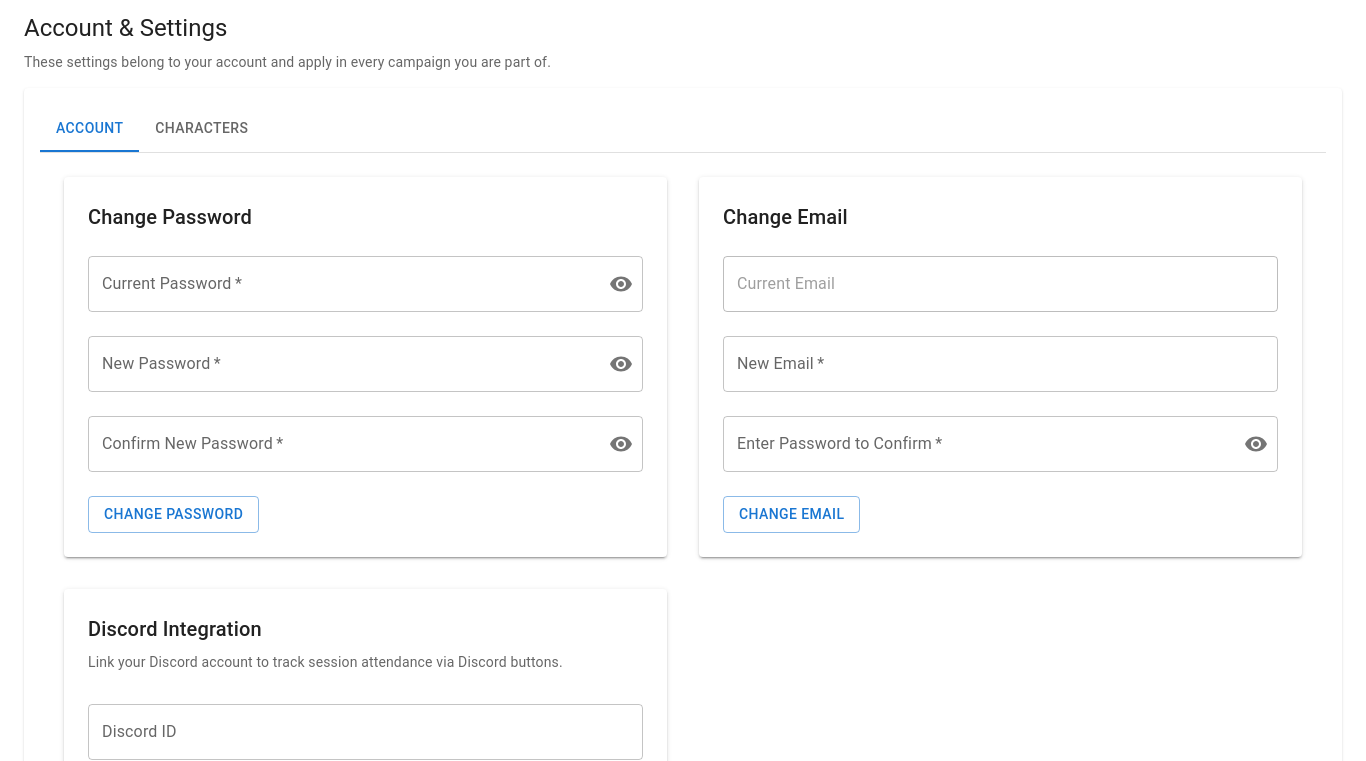
UserSettings › shows password mismatch error
The image size is (1366, 761).
expect the heading "Change Password" is shown: met, box [88,205,252,229]
Type "oldpass123" into the password field labelled "Current Password *". click: (340, 284)
box: [88,256,593,312]
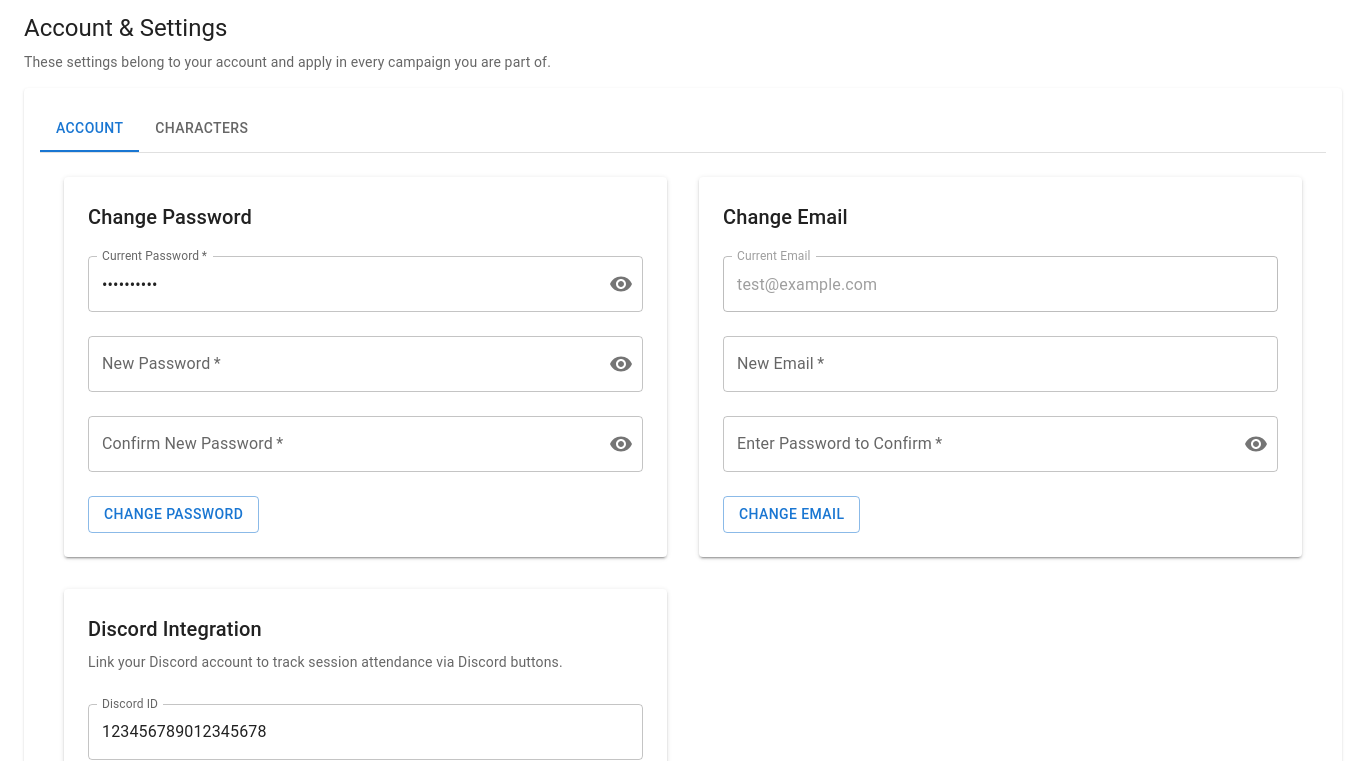
Type "newpassword123" into the password field labelled "New Password *". click: (340, 364)
box: [88,336,593,392]
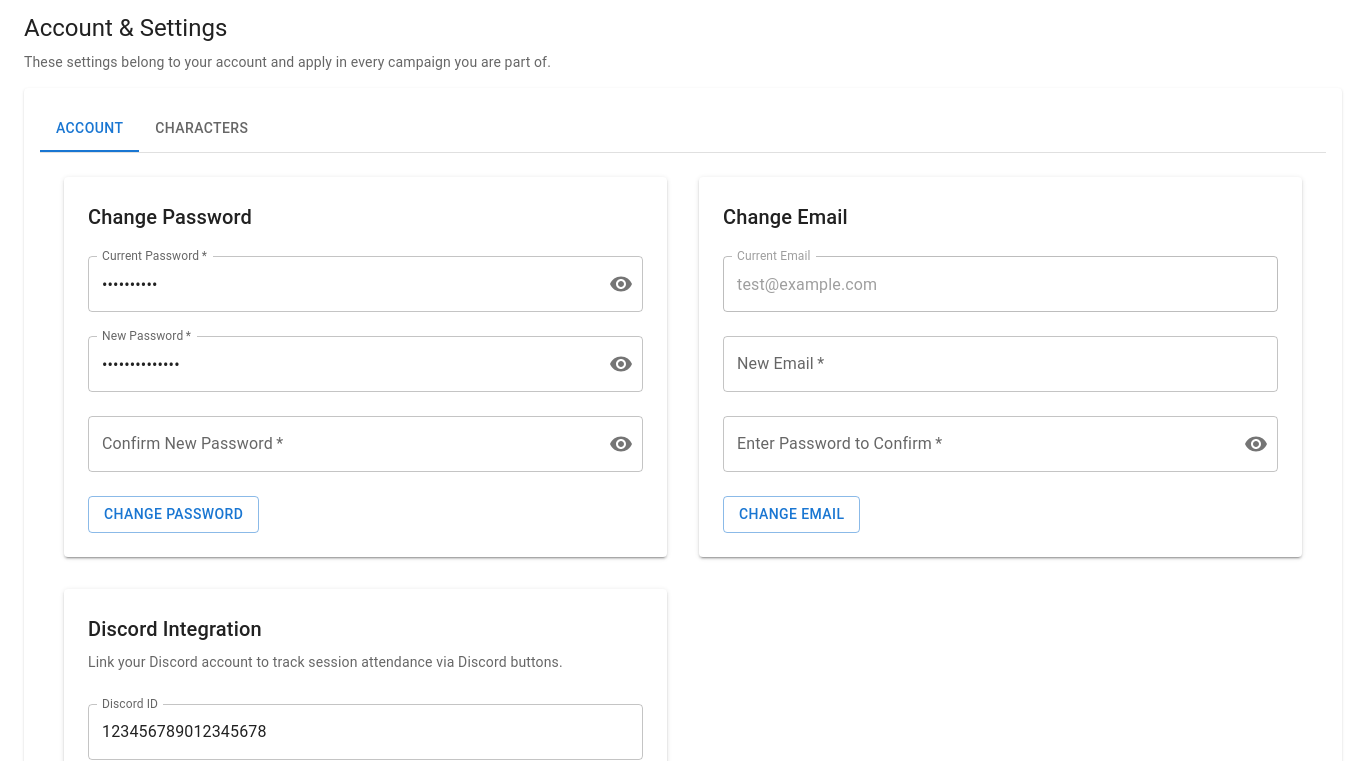
Type "differentpassword" into the password field labelled "Confirm New Password *". click: (340, 444)
box: [88,416,593,472]
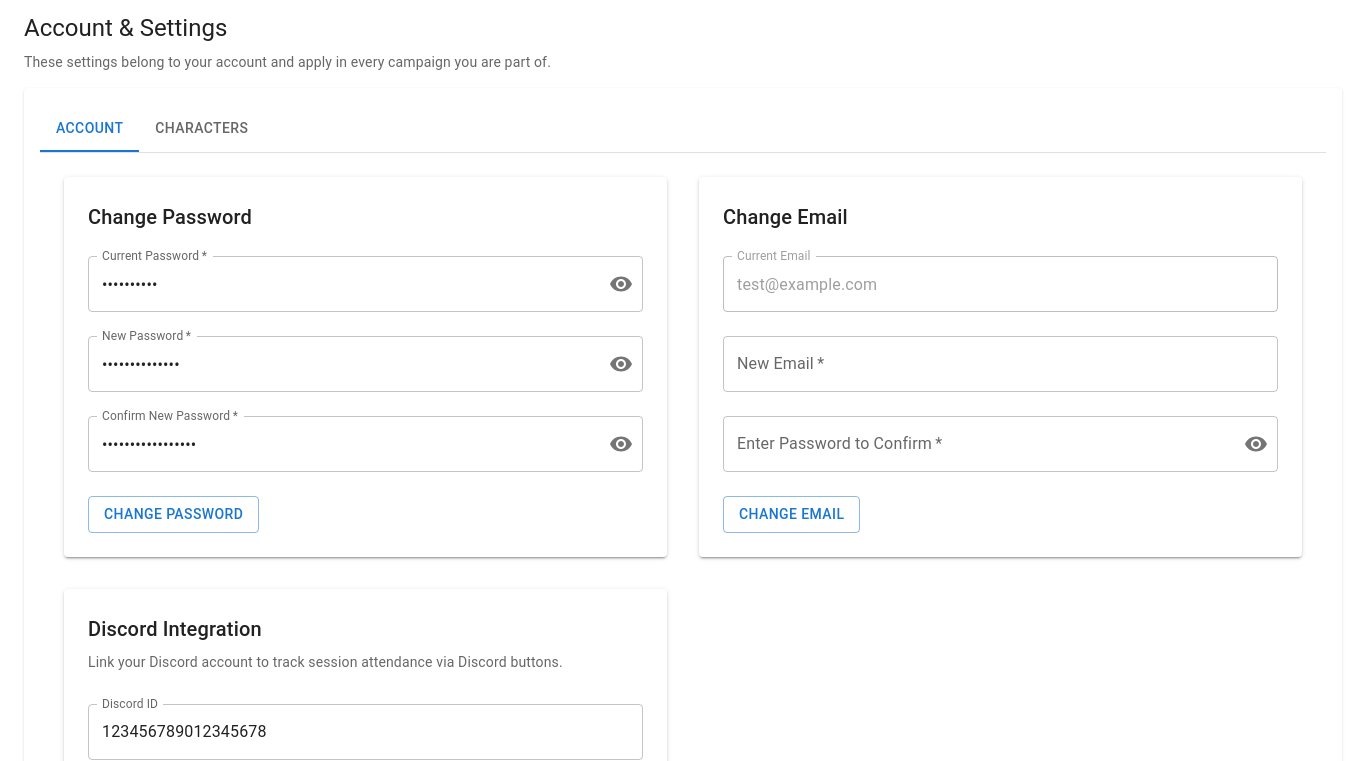
Click the button "Change Password". click: (174, 515)
box: [88,496,259,533]
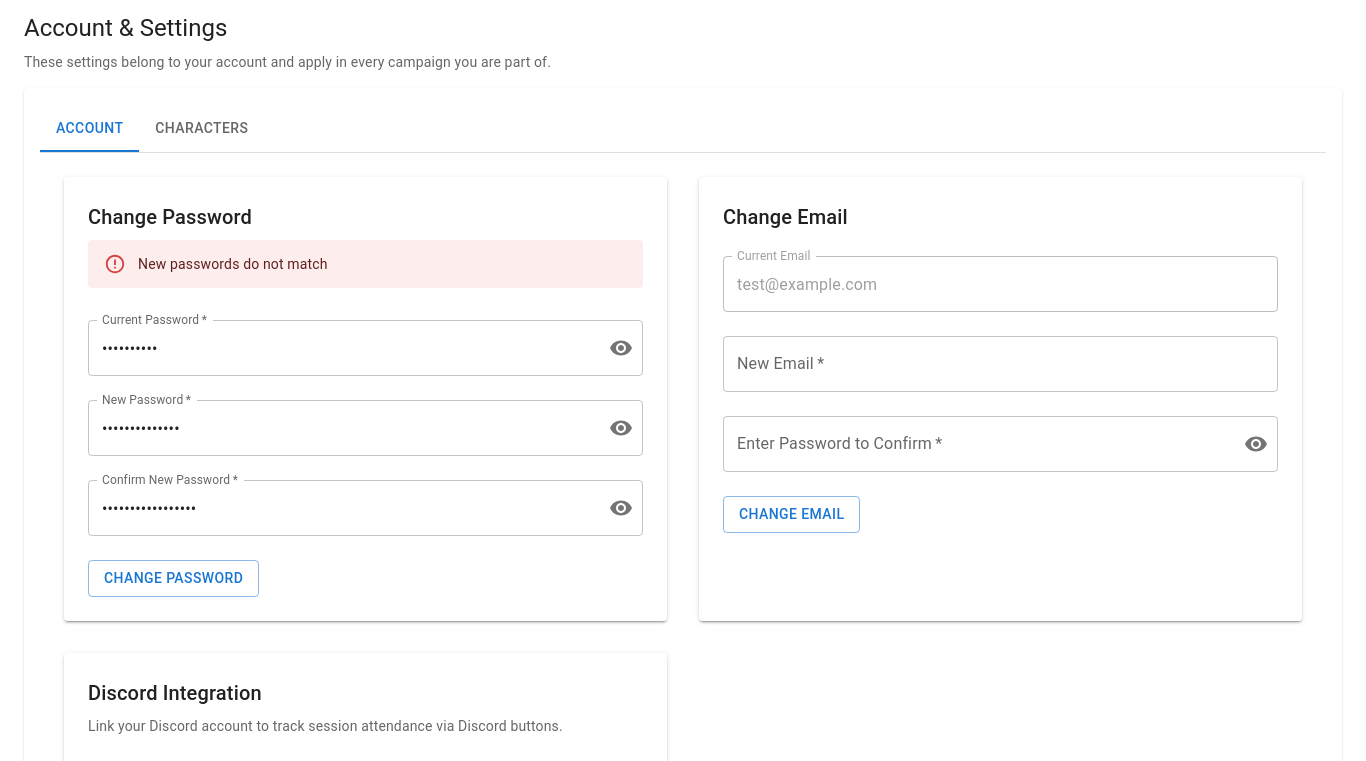
expect the text "New passwords do not match" is shown: met, box [138,256,328,272]
